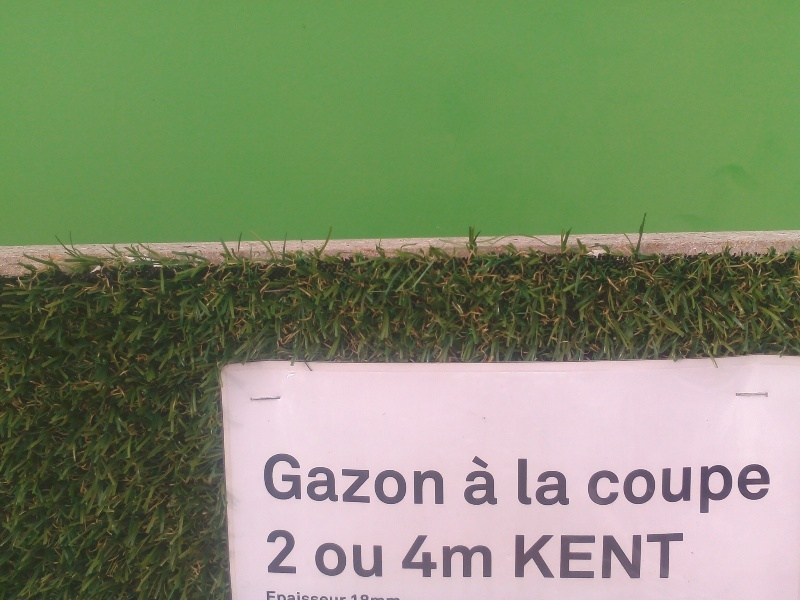text: (273, 449, 288, 505), (289, 449, 304, 505), (305, 449, 320, 505), (321, 449, 336, 505), (337, 449, 352, 505), (353, 449, 368, 505), (369, 449, 384, 505), (385, 449, 400, 505), (401, 449, 416, 505), (417, 449, 432, 505), (593, 463, 608, 515), (609, 463, 624, 515), (625, 463, 640, 515), (641, 463, 656, 515), (657, 463, 672, 515), (673, 463, 688, 515), (689, 463, 704, 515), (705, 463, 720, 515), (721, 463, 736, 515), (737, 463, 752, 515), (753, 463, 768, 515), (465, 456, 480, 506), (481, 456, 496, 506), (529, 458, 544, 506), (545, 458, 560, 506), (529, 533, 544, 579), (545, 533, 560, 579), (561, 533, 576, 579), (577, 533, 592, 579), (593, 533, 608, 579), (609, 533, 624, 579), (625, 533, 640, 579), (641, 533, 656, 579), (657, 533, 672, 579), (273, 529, 288, 574), (433, 449, 445, 505), (401, 535, 416, 579), (417, 535, 432, 579), (433, 535, 448, 579), (449, 535, 464, 579), (465, 535, 480, 579), (515, 533, 528, 579), (673, 533, 686, 579), (262, 449, 272, 505), (321, 542, 336, 579), (337, 542, 352, 579), (353, 542, 368, 579), (369, 542, 384, 579), (481, 535, 493, 579), (518, 458, 528, 506), (561, 458, 570, 506), (289, 529, 297, 574), (267, 529, 272, 574), (588, 463, 592, 515), (315, 542, 320, 579), (769, 463, 772, 515), (273, 590, 288, 600), (289, 590, 304, 600), (305, 590, 320, 600), (321, 590, 336, 600), (337, 590, 352, 600), (353, 590, 368, 600), (369, 590, 384, 600), (385, 590, 400, 600), (497, 456, 499, 506), (266, 590, 272, 600), (401, 590, 402, 600)
